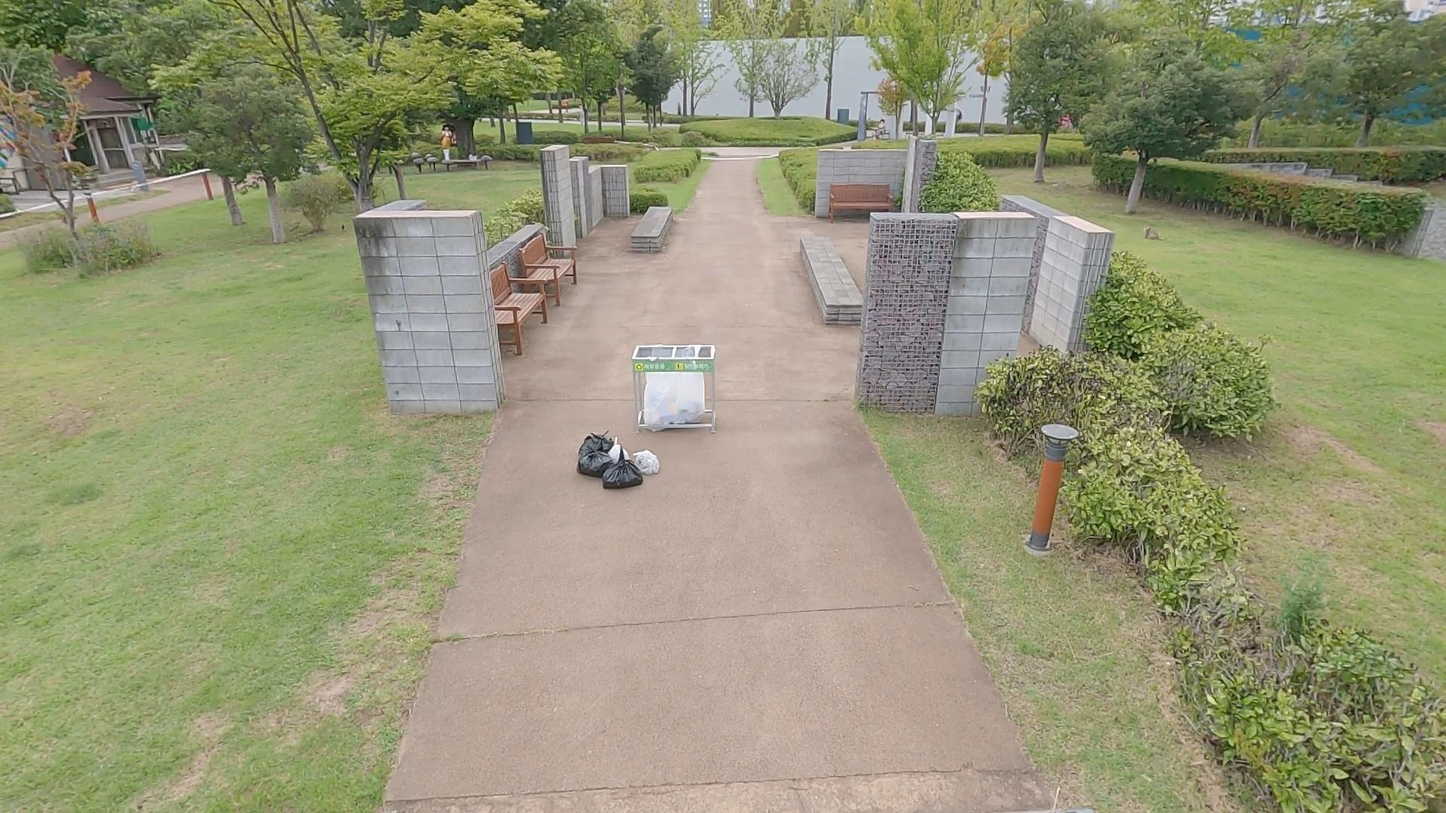person: (439, 120, 454, 168)
trash: (599, 447, 644, 490), (576, 429, 616, 469), (574, 444, 615, 481), (629, 448, 659, 476), (604, 437, 631, 466)
